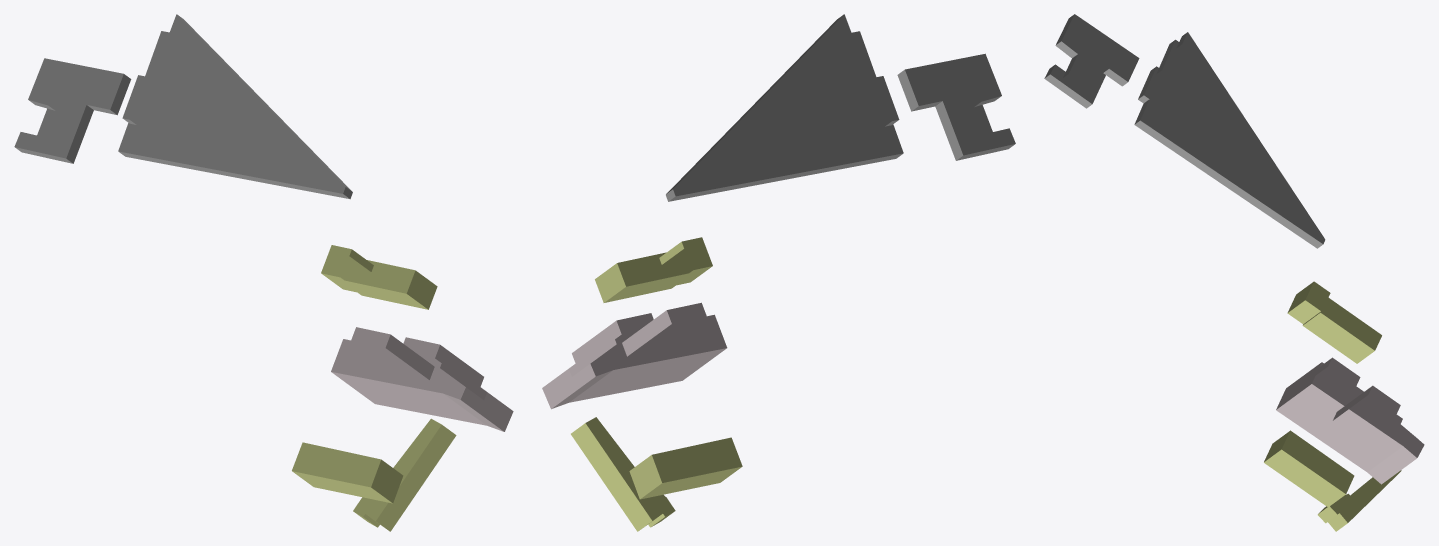
The picture shows the model from 3 angles, left to right: view 1: azimuth 30°, elevation 25°; view 2: azimuth 150°, elevation 25°; view 3: azimuth 330°, elevation 25°; orthographic projection. The views are drawn at different scales.
Visible parts, largest first — view 1: 0_1_0_0_1_3_0; view 2: 0_1_0_0_1_3_0; view 3: 0_1_0_0_1_3_0.
Part boxes in pixels (x1=…): 0_1_0_0_1_3_0: x1=14, y1=14, x2=513, y2=531; 0_1_0_0_1_3_0: x1=542, y1=14, x2=1015, y2=531; 0_1_0_0_1_3_0: x1=1044, y1=14, x2=1424, y2=531.
Size of the model in its own units: 108 by 125 by 18.4.
